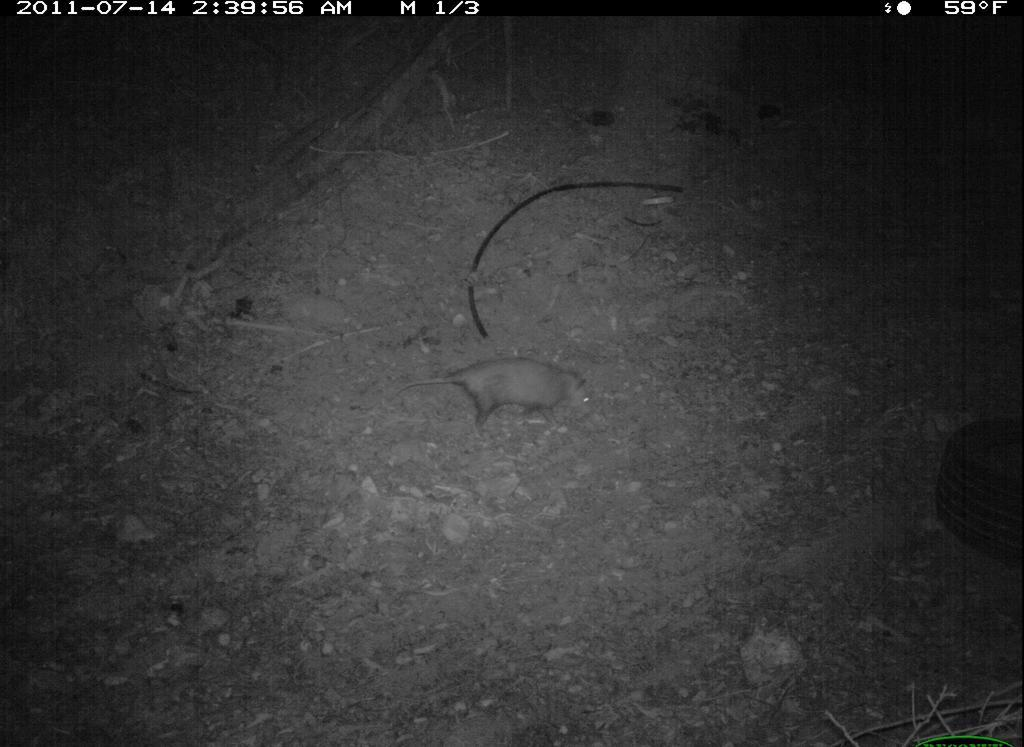opossum: (399, 340, 626, 442)
